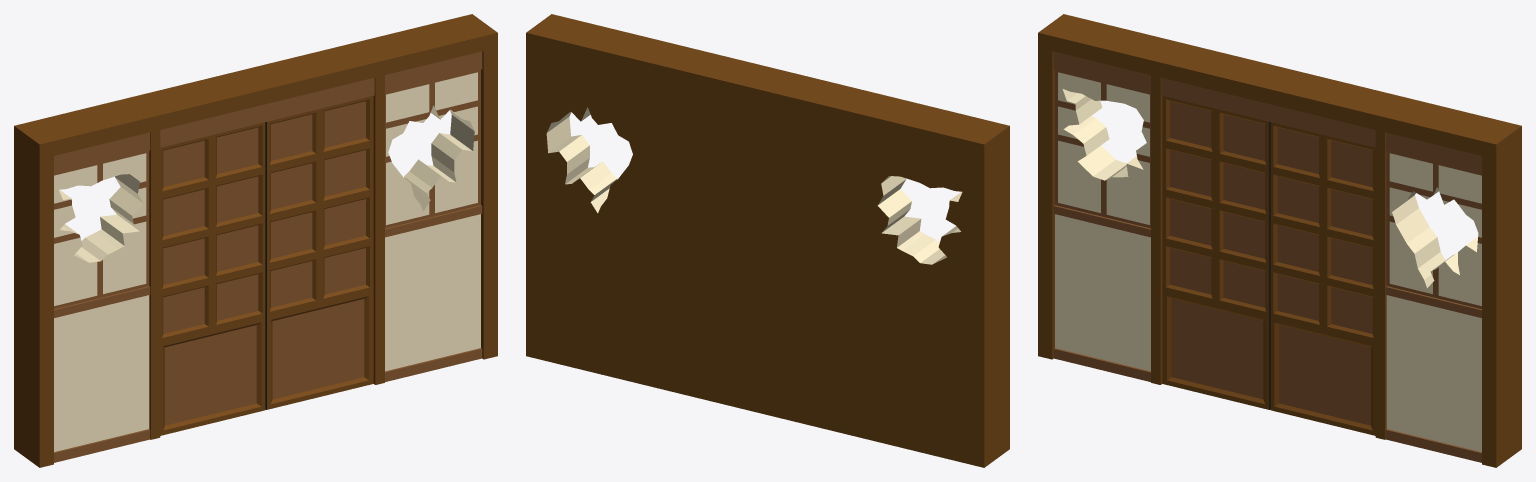
The model's file is Asian_Prop_Building_Modular_Wall_Rural_Damaged_02.FBX.
3 renders of one model, left to right at view 1: azimuth 30°, elevation 25°; view 2: azimuth 150°, elevation 25°; view 3: azimuth 330°, elevation 25°, orthographic.
Parts seen in each view (by area): view 1: Asian_Prop_Building_Modular_Wall_Rural_Damaged_02; view 2: Asian_Prop_Building_Modular_Wall_Rural_Damaged_02; view 3: Asian_Prop_Building_Modular_Wall_Rural_Damaged_02.
Part boxes in pixels (bbox=[...]): Asian_Prop_Building_Modular_Wall_Rural_Damaged_02: bbox=[14, 14, 497, 467]; Asian_Prop_Building_Modular_Wall_Rural_Damaged_02: bbox=[526, 14, 1009, 467]; Asian_Prop_Building_Modular_Wall_Rural_Damaged_02: bbox=[1038, 14, 1521, 467].
Bounding box in the file's own units: 5167 × 3485 × 500.
